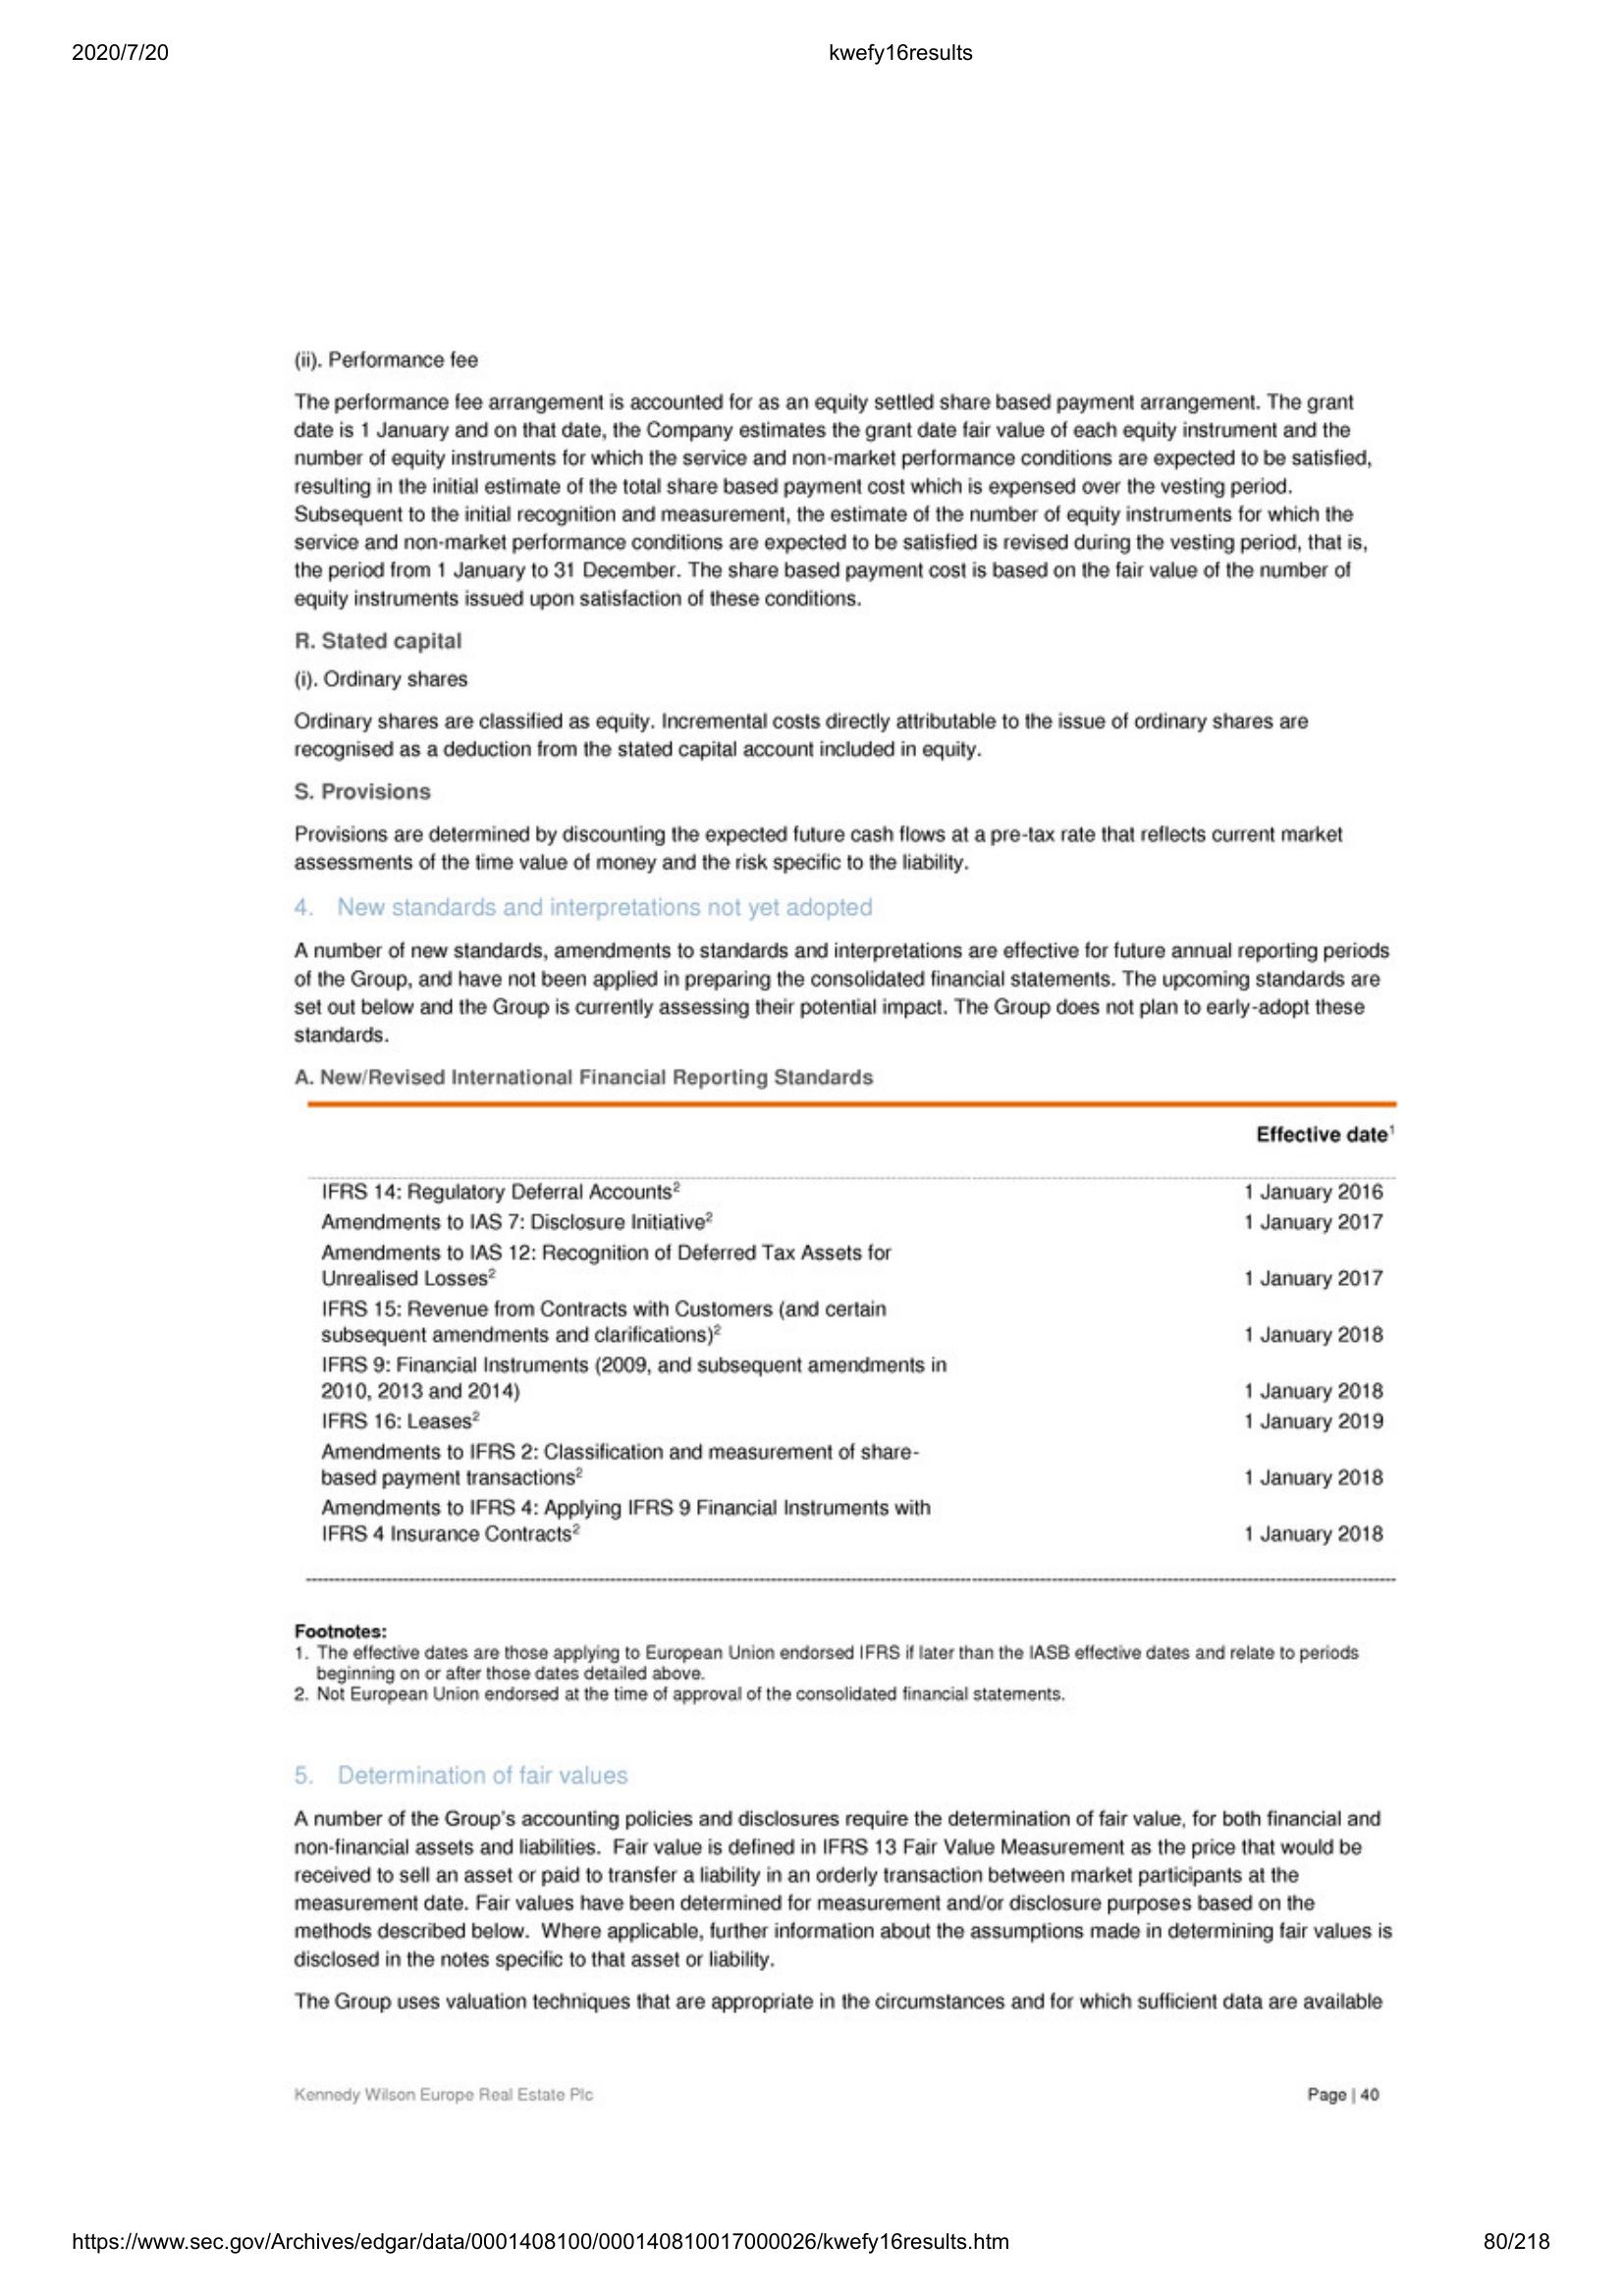table: (302, 1090, 1403, 1590)
